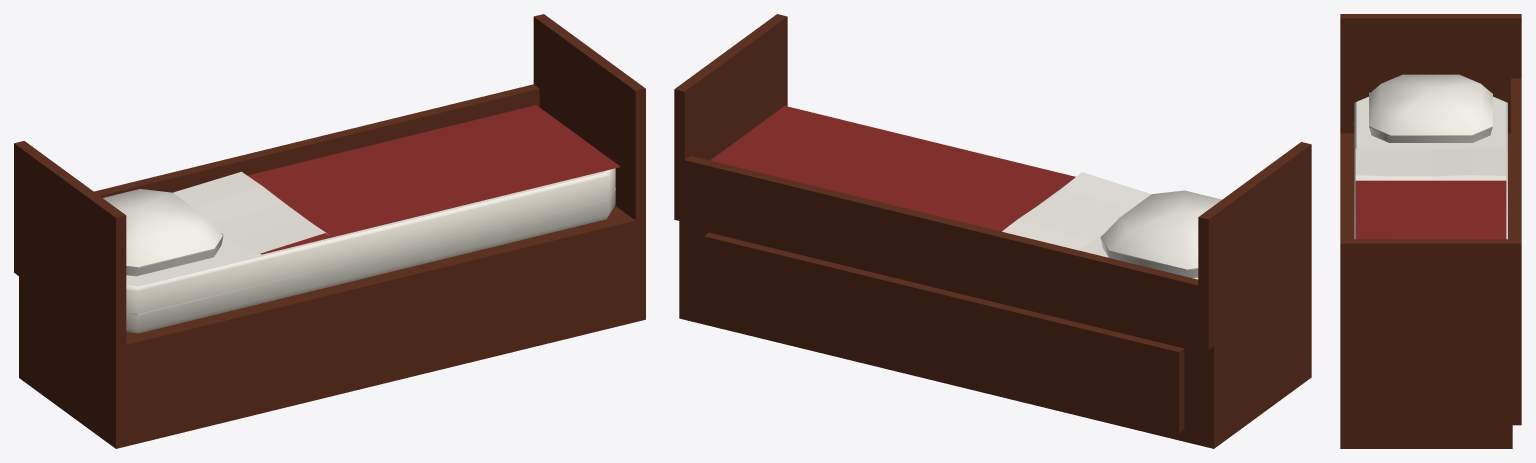
File: parametric-sized-berth-l180w60-2nd.glb
The picture shows the model from 3 angles, left to right: view 1: azimuth 30°, elevation 25°; view 2: azimuth 150°, elevation 25°; view 3: azimuth 270°, elevation 25°; orthographic projection. The views are drawn at different scales.
Parts seen in each view (by area): view 1: parametric-sized-berth-l180w60-2nd; view 2: parametric-sized-berth-l180w60-2nd; view 3: parametric-sized-berth-l180w60-2nd.
Boxes of the visible parts, bbox=[...] form: parametric-sized-berth-l180w60-2nd: bbox=[14, 14, 645, 448]; parametric-sized-berth-l180w60-2nd: bbox=[674, 14, 1311, 448]; parametric-sized-berth-l180w60-2nd: bbox=[1340, 14, 1521, 448].
Size of the model in its own units: 1.8 by 0.75 by 0.6.
